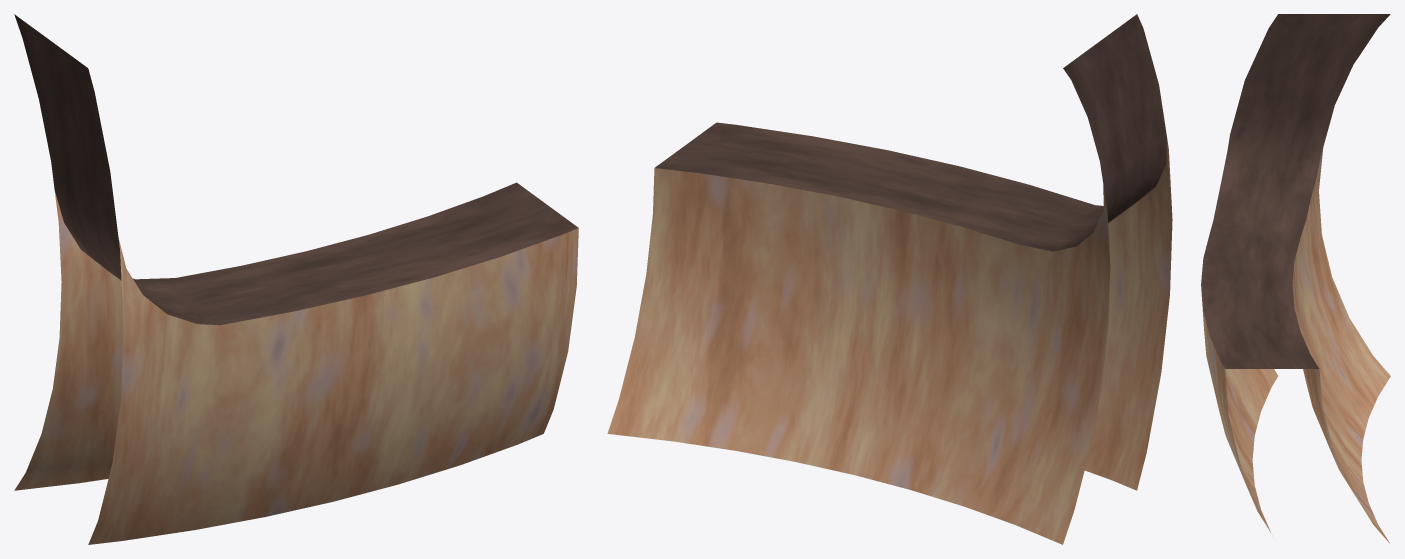
File: FI_037_francos_building_wall_short_var.glb
3 renders of one model, left to right at view 1: azimuth 30°, elevation 25°; view 2: azimuth 150°, elevation 25°; view 3: azimuth 270°, elevation 25°, orthographic. The views are drawn at different scales.
Parts seen in each view (by area): view 1: wall_short_curved.001; view 2: wall_short_curved.001; view 3: wall_short_curved.001.
Part boxes in pixels (<box>): wall_short_curved.001: <box>14,14,578,544</box>; wall_short_curved.001: <box>607,14,1172,544</box>; wall_short_curved.001: <box>1201,14,1390,543</box>.
Bounding box in the file's own units: 3 × 3 × 1.43.
Materials: 2 (2 with a texture image).
